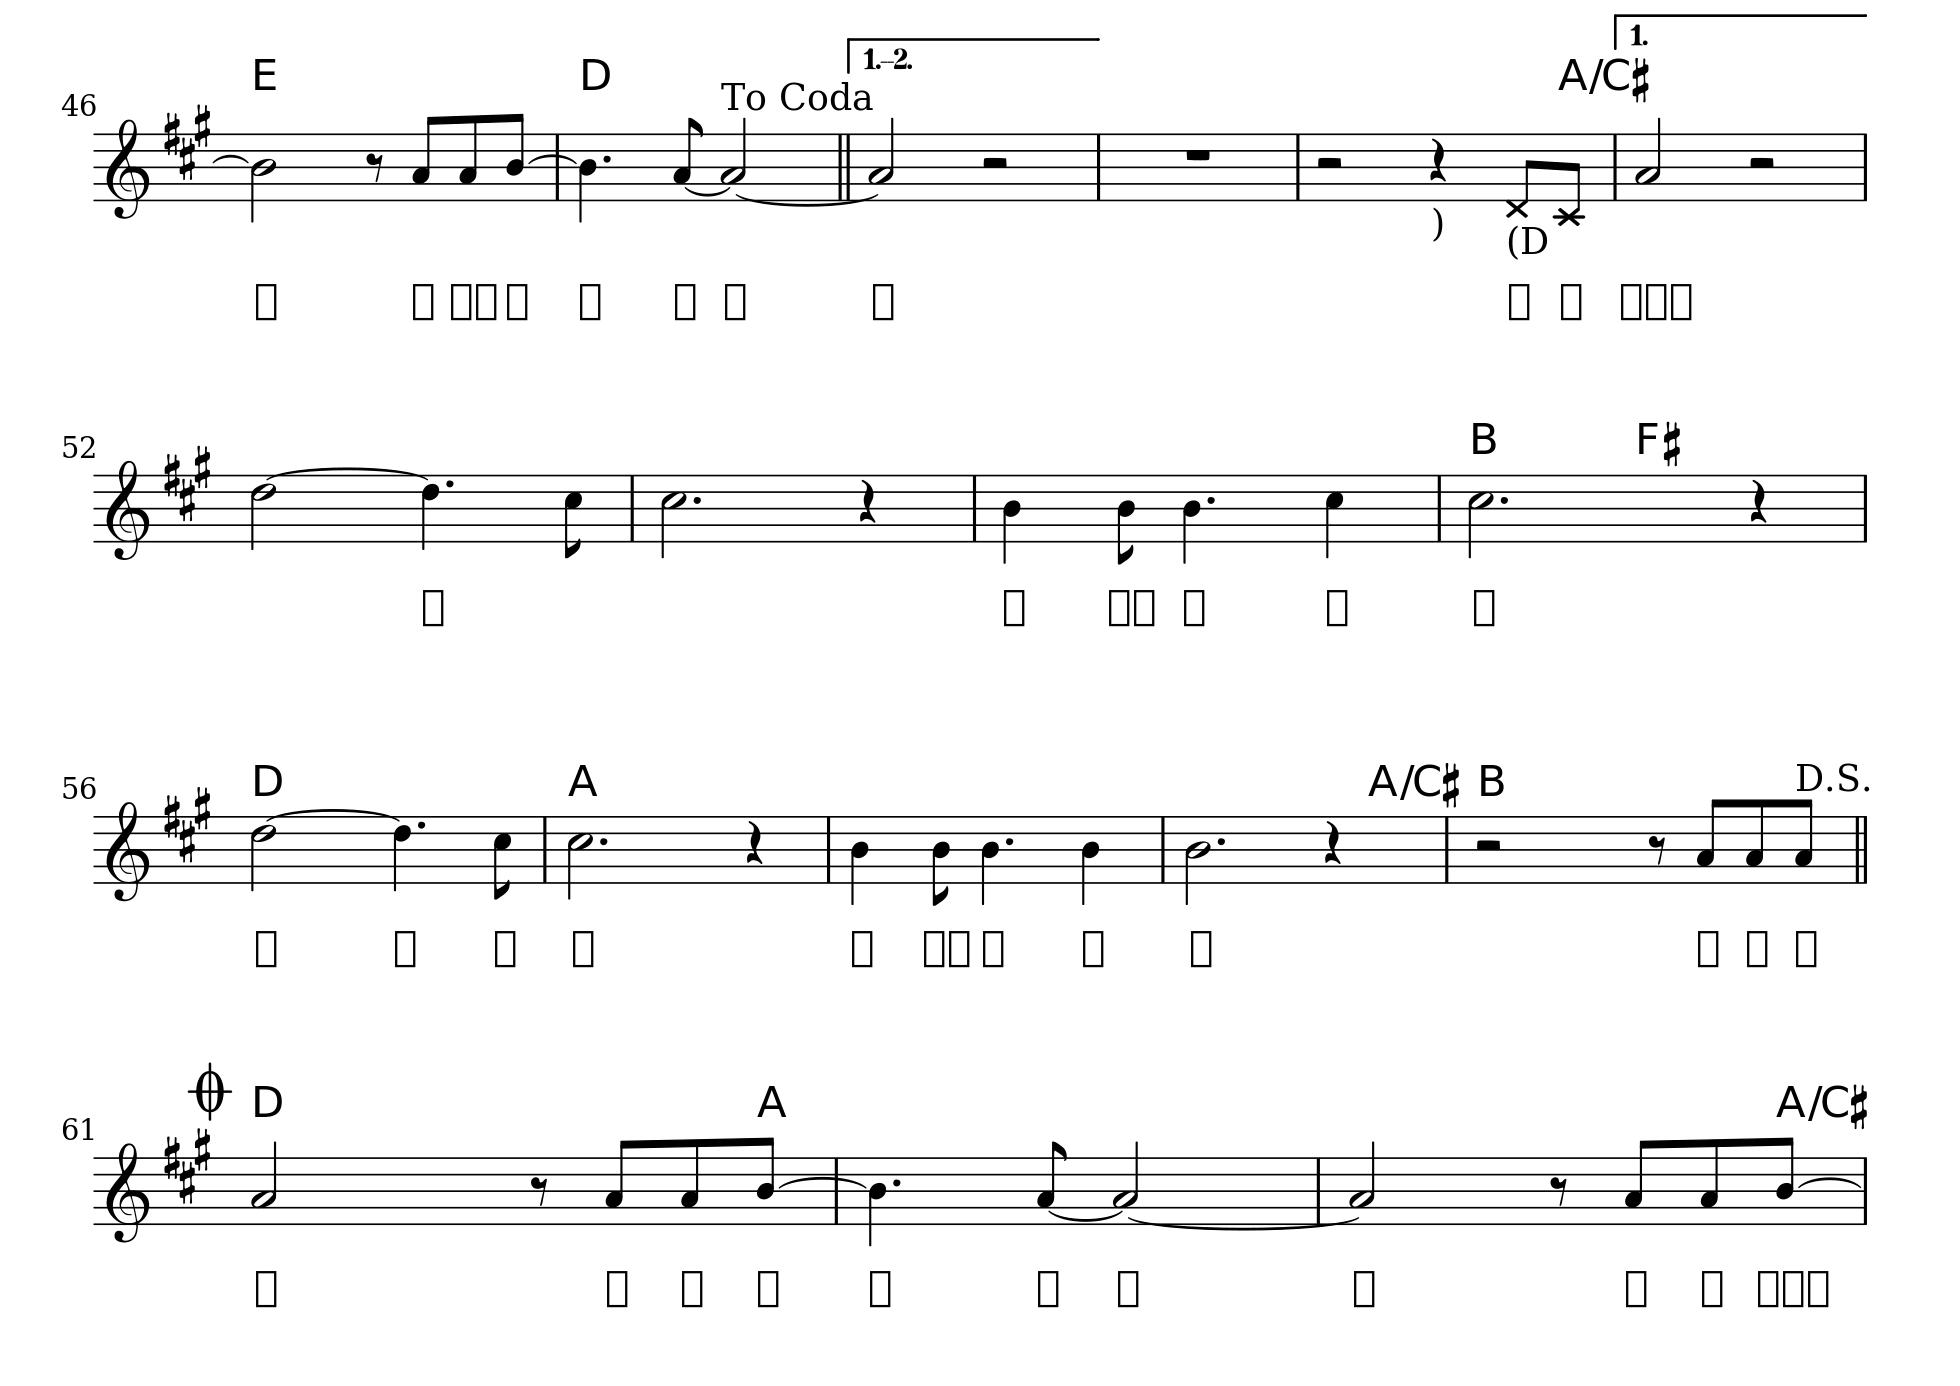1: (79, 1113, 96, 1144)
2: (76, 433, 97, 460)
2_3: (718, 115, 748, 204), (1113, 1137, 1141, 1228), (1635, 115, 1663, 205), (252, 1138, 280, 1228), (868, 114, 895, 202), (1350, 1138, 1377, 1227)
2_4: (1185, 813, 1213, 904), (250, 133, 276, 223)
2_5: (1467, 471, 1497, 558), (565, 813, 594, 900), (660, 474, 687, 559)
2_6: (249, 472, 277, 552), (249, 813, 277, 891)
4: (60, 91, 78, 118)
4_4: (1002, 471, 1023, 565), (1182, 472, 1203, 565), (849, 813, 870, 906), (981, 813, 1000, 906), (1081, 814, 1101, 906)
4_5: (1324, 471, 1347, 559)
4_6: (393, 813, 414, 892)
5: (61, 772, 79, 799), (61, 432, 76, 459)
6: (61, 1113, 79, 1143), (79, 774, 97, 801), (79, 91, 97, 117)
8_3: (1036, 1138, 1069, 1225), (672, 115, 703, 202), (604, 1137, 634, 1225), (411, 114, 439, 202), (1695, 796, 1723, 885), (1624, 1137, 1653, 1225), (457, 112, 481, 205), (679, 1135, 702, 1227), (1699, 1135, 1722, 1225), (1744, 796, 1767, 885), (1794, 796, 1815, 885)
8_4: (754, 1134, 778, 1228), (504, 111, 528, 204), (865, 1153, 888, 1248), (1774, 1134, 1797, 1227), (1116, 472, 1137, 568), (577, 130, 598, 225), (931, 814, 952, 909)
8_5: (562, 472, 583, 559), (492, 814, 513, 901)
8_6: (420, 472, 442, 550)
Coda: (187, 1059, 229, 1120)
DS: (1794, 757, 1873, 793)
Double_barline: (832, 132, 856, 201), (1851, 814, 1873, 883)
Gclef: (105, 1138, 154, 1245), (106, 796, 150, 901), (106, 115, 148, 220), (106, 457, 148, 561)
Rests1: (1182, 145, 1215, 163)
Rests2: (1314, 153, 1347, 174), (1746, 154, 1782, 172), (978, 153, 1011, 172), (1473, 835, 1506, 855)
Rests4: (1428, 136, 1450, 184), (1749, 477, 1770, 526), (744, 817, 765, 865), (1323, 817, 1344, 865), (858, 477, 877, 525)
Rests8: (528, 1173, 552, 1207), (1548, 1173, 1572, 1207), (1647, 832, 1669, 865), (364, 150, 385, 184)
Sharp: (1440, 762, 1464, 810), (1660, 418, 1683, 468), (1849, 1081, 1872, 1131), (1632, 58, 1650, 103)
Single_barline: (1851, 133, 1878, 199), (1605, 133, 1629, 199), (1087, 132, 1110, 199), (1288, 130, 1309, 199), (1854, 472, 1875, 541), (1309, 1155, 1329, 1225), (966, 472, 982, 541), (1860, 1155, 1875, 1228), (820, 814, 835, 883), (625, 474, 640, 541), (1432, 474, 1447, 541), (831, 1156, 844, 1228), (1441, 814, 1455, 885), (1156, 814, 1170, 883), (538, 817, 550, 880)
Slur: (778, 1176, 868, 1188), (1798, 1174, 1861, 1189), (1047, 1210, 1125, 1219), (529, 151, 577, 165), (682, 184, 732, 196), (211, 153, 247, 165)
dot: (1498, 493, 1512, 507), (598, 151, 613, 163), (444, 475, 456, 490), (415, 817, 427, 832), (888, 1174, 903, 1186), (1204, 493, 1218, 505), (598, 834, 610, 847), (1215, 834, 1228, 846), (1002, 835, 1017, 846), (691, 493, 703, 505)
